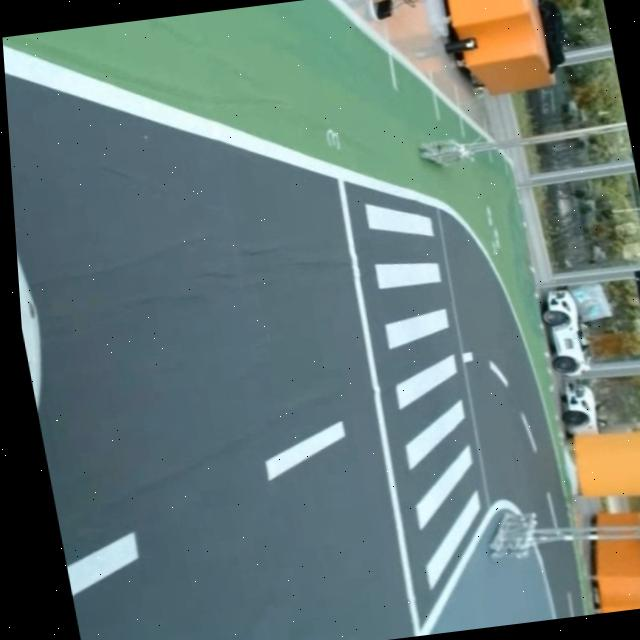traffic-light: (627, 262, 640, 412)
